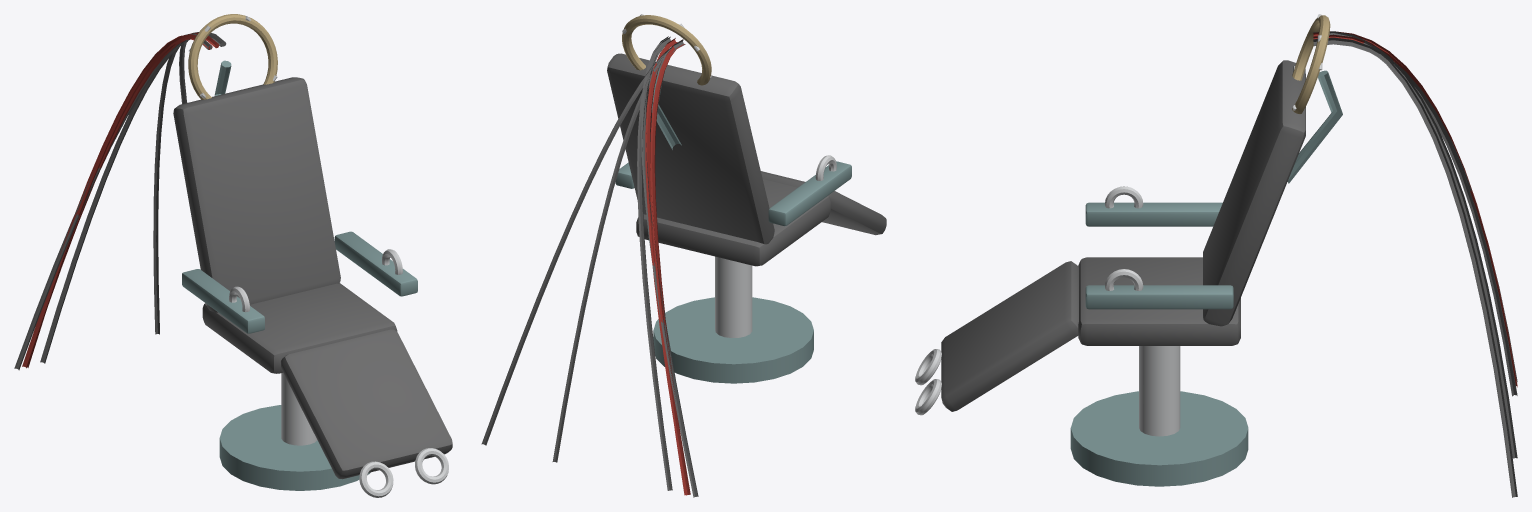
Rendered from restraint_chair.glb.
3 views of the same model, side by side, from view 1: azimuth 30°, elevation 25°; view 2: azimuth 150°, elevation 25°; view 3: azimuth 270°, elevation 25° (orthographic). The views are drawn at different scales.
Visible parts, largest first — view 1: restraint_chair; view 2: restraint_chair; view 3: restraint_chair.
Boxes of the visible parts, box(x1,y1,x2,y2) form: restraint_chair: box(14, 14, 452, 497); restraint_chair: box(481, 14, 886, 497); restraint_chair: box(915, 14, 1517, 497).
Size of what is drawn, in the model's own units: 0.9343 by 1.6 by 2.04.
